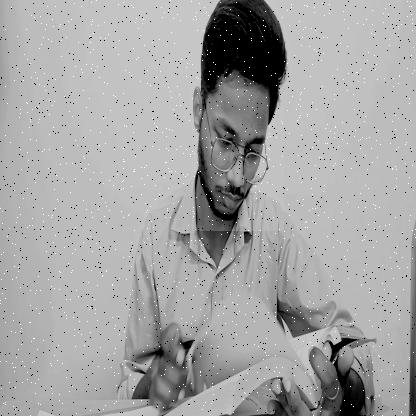Distracted: (192, 0, 284, 231)
